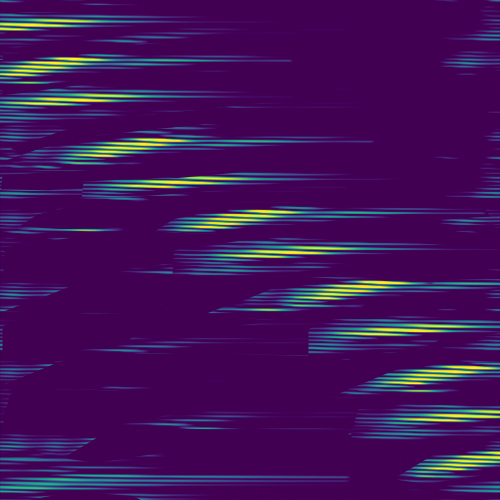semblance: (1, 52, 110, 86), (187, 202, 301, 232), (70, 133, 193, 160), (298, 276, 419, 303), (1, 91, 154, 109), (214, 243, 355, 262), (116, 173, 254, 191), (382, 365, 500, 385), (337, 323, 475, 339), (425, 447, 500, 475), (1, 16, 109, 35), (398, 410, 500, 426)
